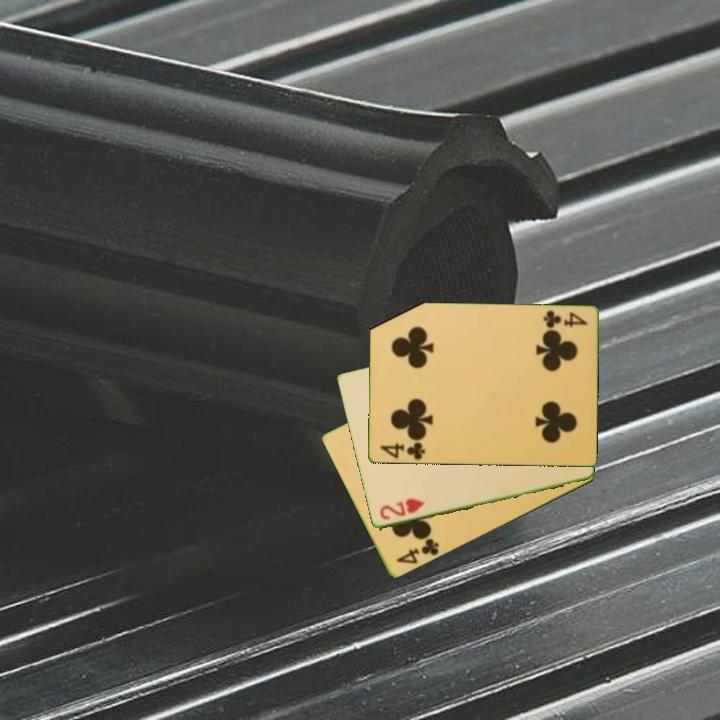2h: (376, 495, 427, 523)
4c: (393, 532, 442, 567), (539, 307, 590, 331), (376, 439, 427, 462)
